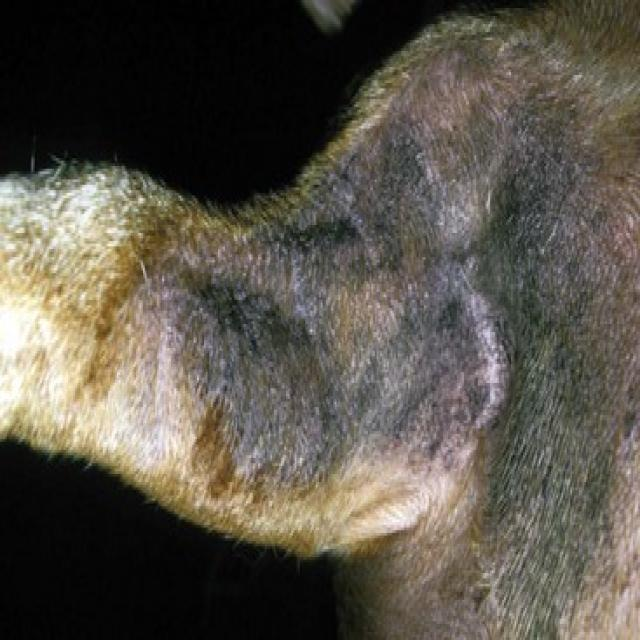fungal infection: (164, 258, 337, 488), (422, 130, 505, 243), (592, 163, 640, 353), (463, 283, 518, 444)
